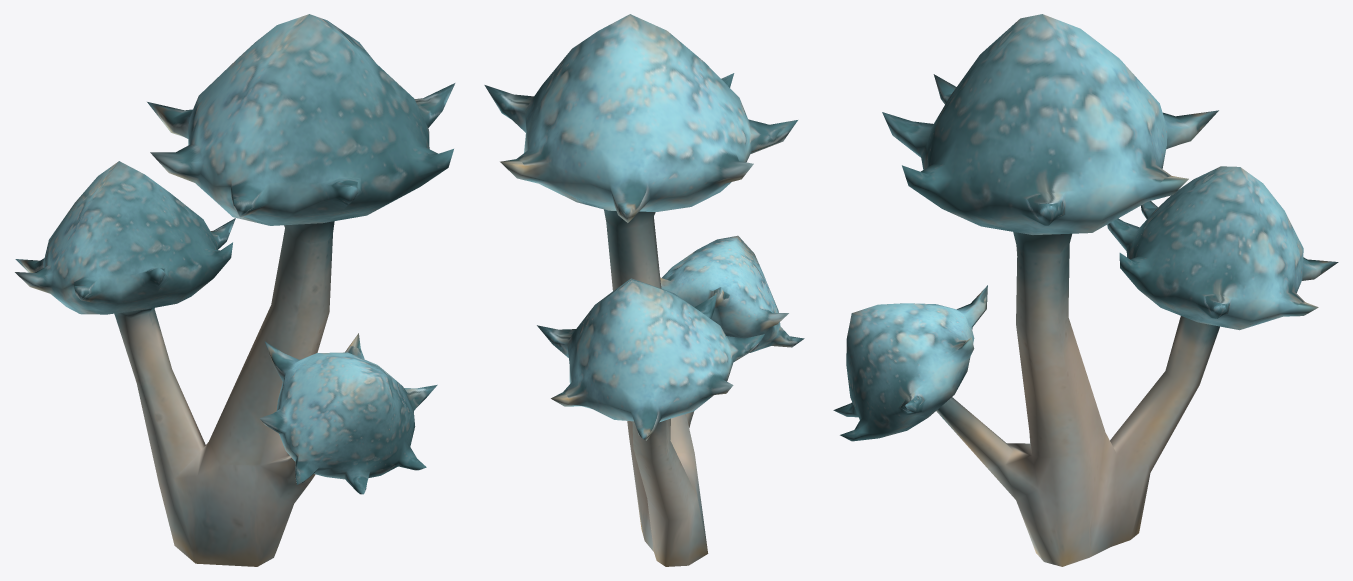
Rendered from SM_Mushroom_A.fbx.
3 views of the same model, side by side, from view 1: azimuth 30°, elevation 25°; view 2: azimuth 150°, elevation 25°; view 3: azimuth 270°, elevation 25° (orthographic). The views are drawn at different scales.
Visible parts, largest first — view 1: SM_Mushroom_A_LOD0; view 2: SM_Mushroom_A_LOD0; view 3: SM_Mushroom_A_LOD0.
Boxes of the visible parts, x1=… form: SM_Mushroom_A_LOD0: x1=15, y1=14, x2=455, y2=566; SM_Mushroom_A_LOD0: x1=484, y1=14, x2=804, y2=566; SM_Mushroom_A_LOD0: x1=833, y1=14, x2=1338, y2=566.
Bounding box in the file's own units: 20.07 × 23.58 × 29.19.
1 material, 1 textured.
